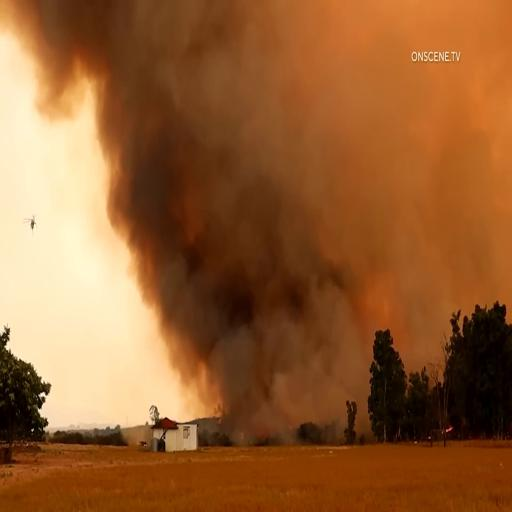smoke: (115, 25, 294, 390)
